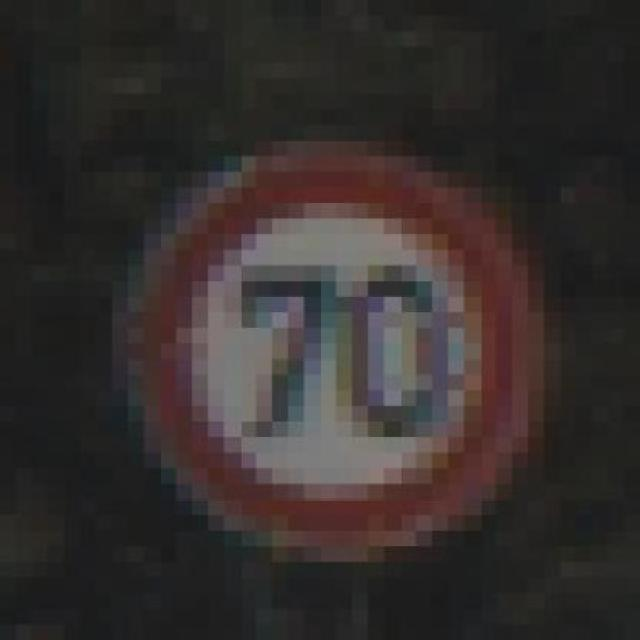forb_speed_over_70: (132, 150, 536, 561)
